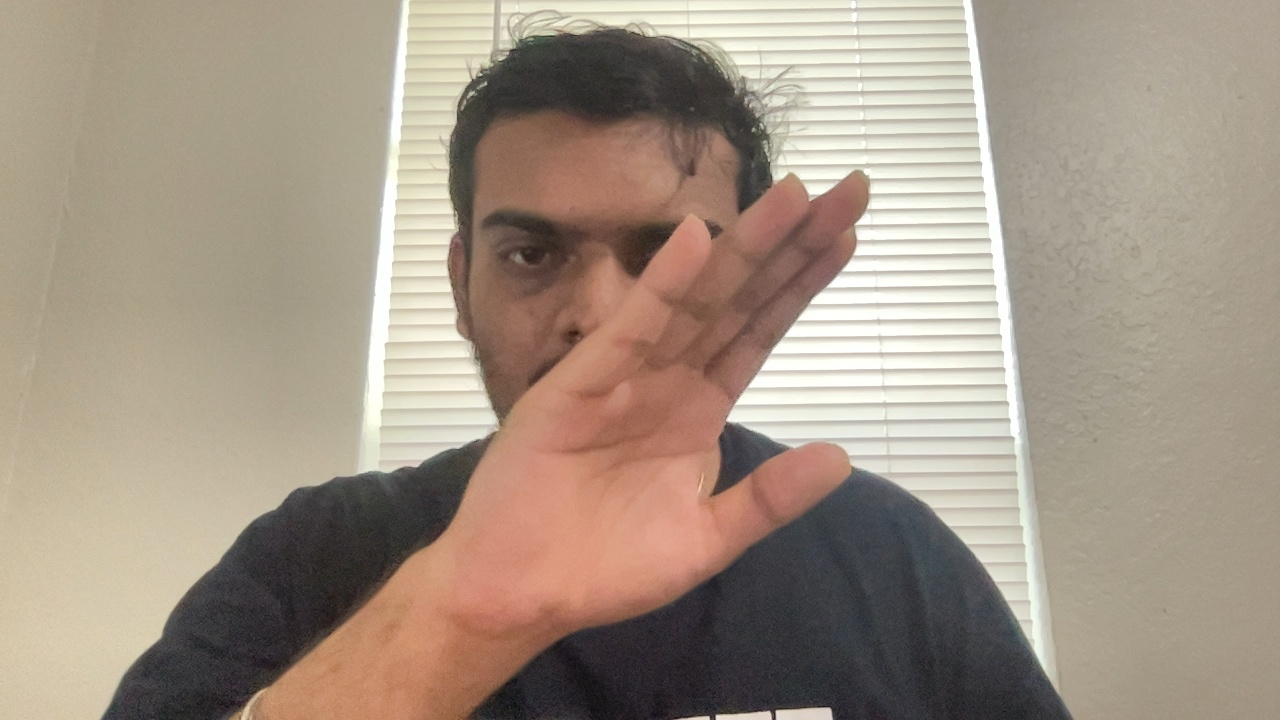hello: (453, 171, 860, 623)
